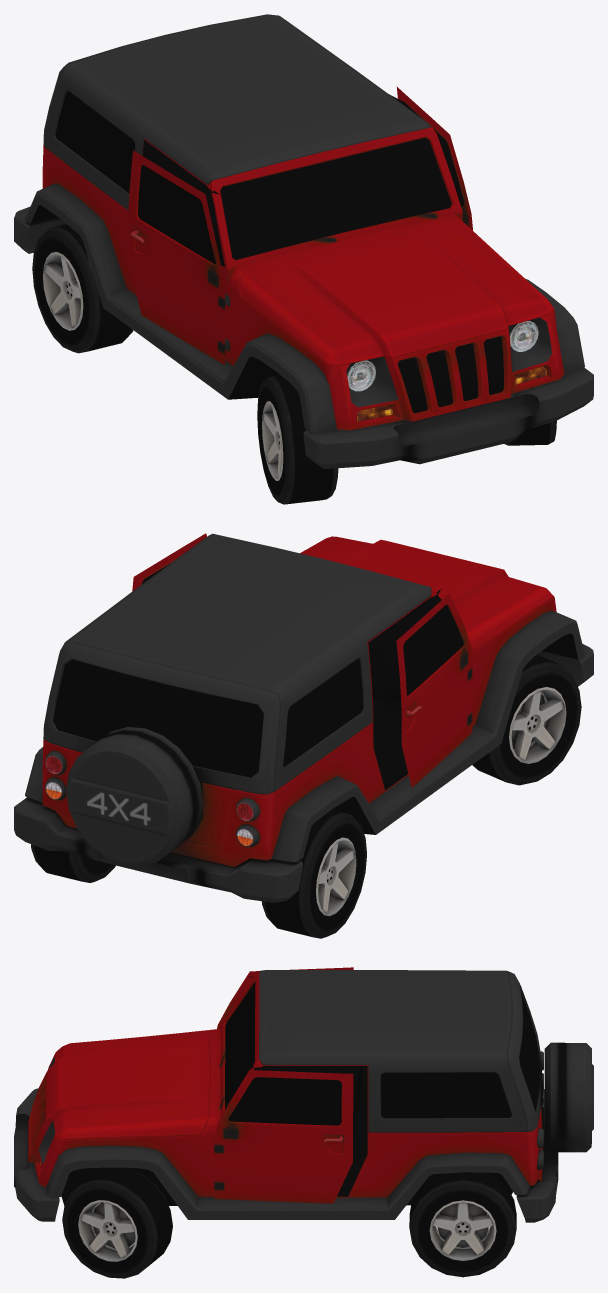
The model's file is 4x4_jeep.glb.
3 renders of one model, top to bottom at view 1: azimuth 30°, elevation 25°; view 2: azimuth 150°, elevation 25°; view 3: azimuth 270°, elevation 25°, orthographic. The views are drawn at different scales.
Parts seen in each view (by area): view 1: Body1, Boonet, Glass1, Door1, F_Bum, Tire1, Tire2, Door, B_Bum, Tire3; view 2: Body1, Glass1, Door1, Tire2, Boonet, Tire1, B_Bum, Tire, F_Bum, Door; view 3: Body1, Door, Boonet, Tire3, Tire, Glass1, F_Bum, B_Bum, Door1.
Part boxes in pixels (left/top/right/bottom): Body1: left=25, top=14, right=584, bottom=433; Boonet: left=245, top=220, right=540, bottom=348; Glass1: left=55, top=91, right=451, bottom=259; Door1: left=128, top=147, right=224, bottom=365; F_Bum: left=303, top=368, right=593, bottom=468; Tire1: left=32, top=224, right=133, bottom=353; Tire2: left=257, top=375, right=338, bottom=504; Door: left=389, top=86, right=472, bottom=230; B_Bum: left=14, top=206, right=66, bottom=253; Tire3: left=504, top=420, right=556, bottom=445; Body1: left=25, top=533, right=584, bottom=866; Glass1: left=53, top=597, right=430, bottom=777; Door1: left=381, top=588, right=472, bottom=787; Tire2: left=472, top=654, right=581, bottom=785; Boonet: left=301, top=536, right=540, bottom=631; Tire1: left=261, top=809, right=366, bottom=938; B_Bum: left=14, top=797, right=302, bottom=902; Tire: left=31, top=844, right=115, bottom=882; F_Bum: left=537, top=644, right=593, bottom=686; Door: left=132, top=533, right=206, bottom=591; Body1: left=28, top=970, right=593, bottom=1219; Door: left=214, top=1066, right=358, bottom=1203; Boonet: left=64, top=1030, right=209, bottom=1127; Tire3: left=62, top=1167, right=172, bottom=1278; Tire: left=409, top=1172, right=516, bottom=1277; Glass1: left=225, top=982, right=539, bottom=1111; F_Bum: left=14, top=1088, right=59, bottom=1221; B_Bum: left=516, top=1089, right=558, bottom=1222; Door1: left=217, top=967, right=353, bottom=1028.
Bounding box in the file's own units: 2.54 × 2.03 × 4.99.
4 materials, 3 textured.
